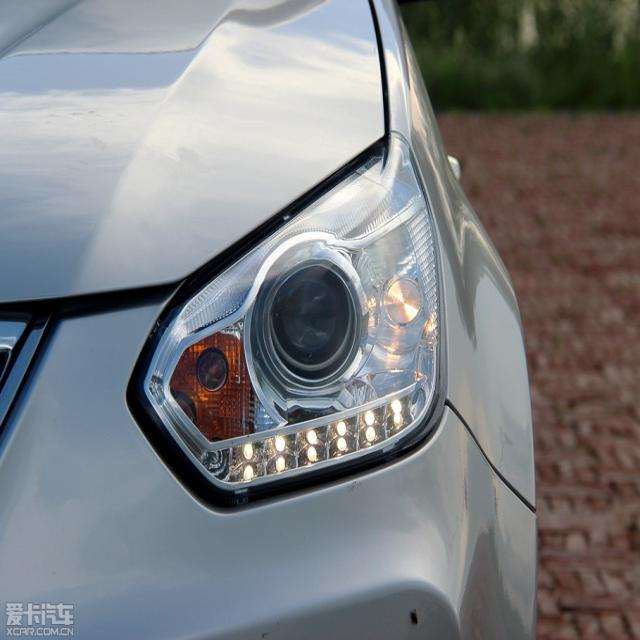front_left_side_light: (125, 126, 454, 526)
